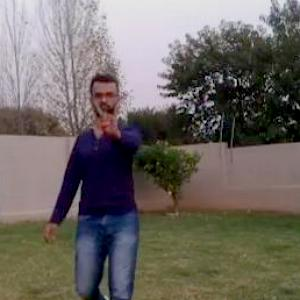takeoff-hand: (93, 96, 128, 138)
